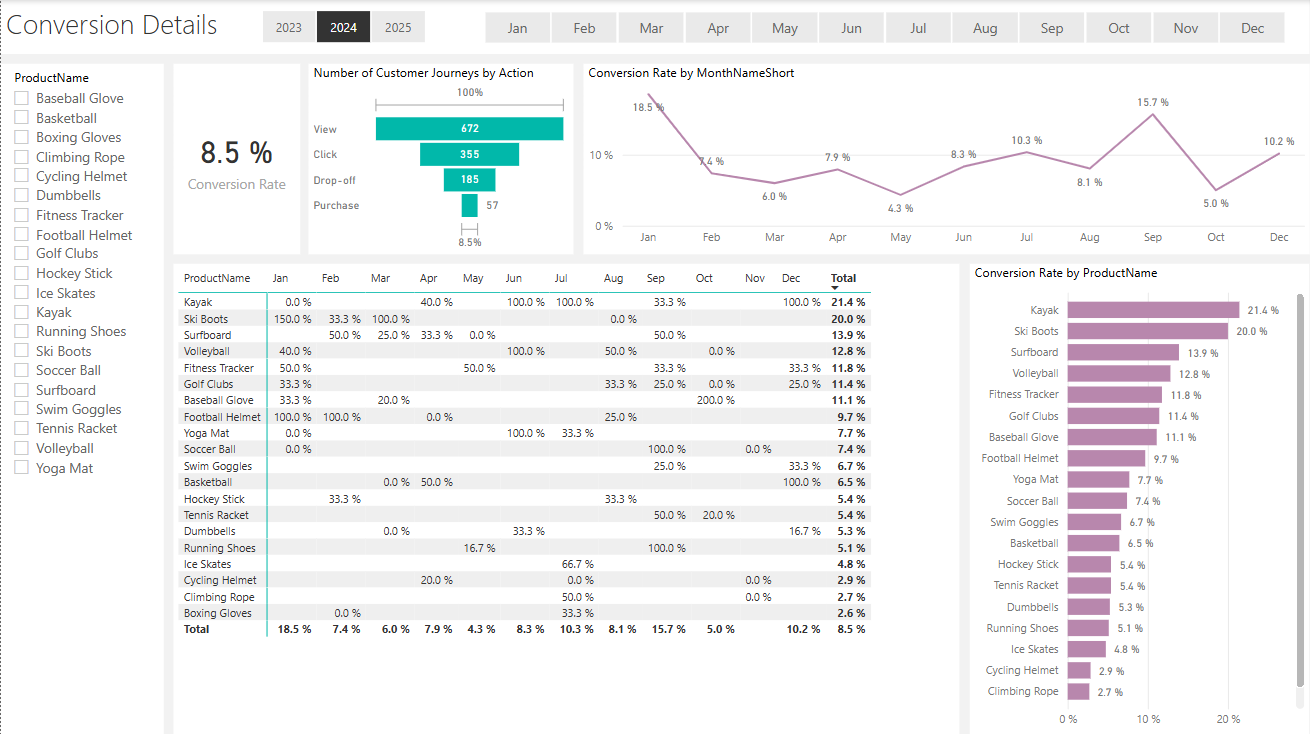

This screenshot's page, from the dashboard's own definition file:
{"tool":"powerbi","page":{"name":"Conversion Details","canvas":[1280,720],"ordinal":1},"visuals":[{"type":"textbox","box":[0,0,1280,52.6],"z":0},{"type":"slicer","fields":{"Values":["dim_products.ProductName"]},"box":[0,61.9,159.4,658.4],"z":1000},{"type":"card","fields":{"Values":["_Calculations.Conversion Rate"]},"box":[168.5,61.9,123.8,186.7],"z":2000},{"type":"lineChart","fields":{"Y":["_Calculations.Conversion Rate"],"Category":["Calendar.MonthNameShort"]},"box":[570.1,61.9,710.3,186.7],"z":3000},{"type":"clusteredBarChart","fields":{"Category":["dim_products.ProductName"],"Y":["_Calculations.Conversion Rate"]},"box":[948,257.7,332.4,462.6],"z":4000},{"type":"slicer","fields":{"Values":["Calendar.Year"]},"box":[230.2,4.1,208.5,44.4],"z":5000},{"type":"slicer","fields":{"Values":["Calendar.MonthNameShort"]},"box":[448,4.6,832.3,43.7],"z":6000},{"type":"pivotTable","fields":{"Rows":["dim_products.ProductName"],"Values":["_Calculations.Conversion Rate"],"Columns":["Calendar.MonthNameShort"]},"box":[168.5,257.7,768.6,462.6],"z":7000},{"type":"funnel","fields":{"Category":["fact_customer_journey.Action"],"Y":["_Calculations.Number of Customer Journeys"]},"box":[301.4,61.9,259.5,186.7],"z":8000}]}

Visuals, with their boxes in screenshot pixels (x1, y1, x2, y2), scaled from the page's 1280x720 canvas onto the 1310x734 screenshot:
textbox: [left=0, top=0, right=1309, bottom=54]
slicer - dim_products.ProductName: [left=0, top=63, right=163, bottom=733]
card - _Calculations.Conversion Rate: [left=172, top=63, right=299, bottom=253]
lineChart - _Calculations.Conversion Rate x Calendar.MonthNameShort: [left=583, top=63, right=1309, bottom=253]
clusteredBarChart - dim_products.ProductName x _Calculations.Conversion Rate: [left=970, top=263, right=1309, bottom=733]
slicer - Calendar.Year: [left=236, top=4, right=449, bottom=49]
slicer - Calendar.MonthNameShort: [left=458, top=5, right=1309, bottom=49]
pivotTable - dim_products.ProductName x _Calculations.Conversion Rate: [left=172, top=263, right=959, bottom=733]
funnel - fact_customer_journey.Action x _Calculations.Number of Customer Journeys: [left=308, top=63, right=574, bottom=253]
